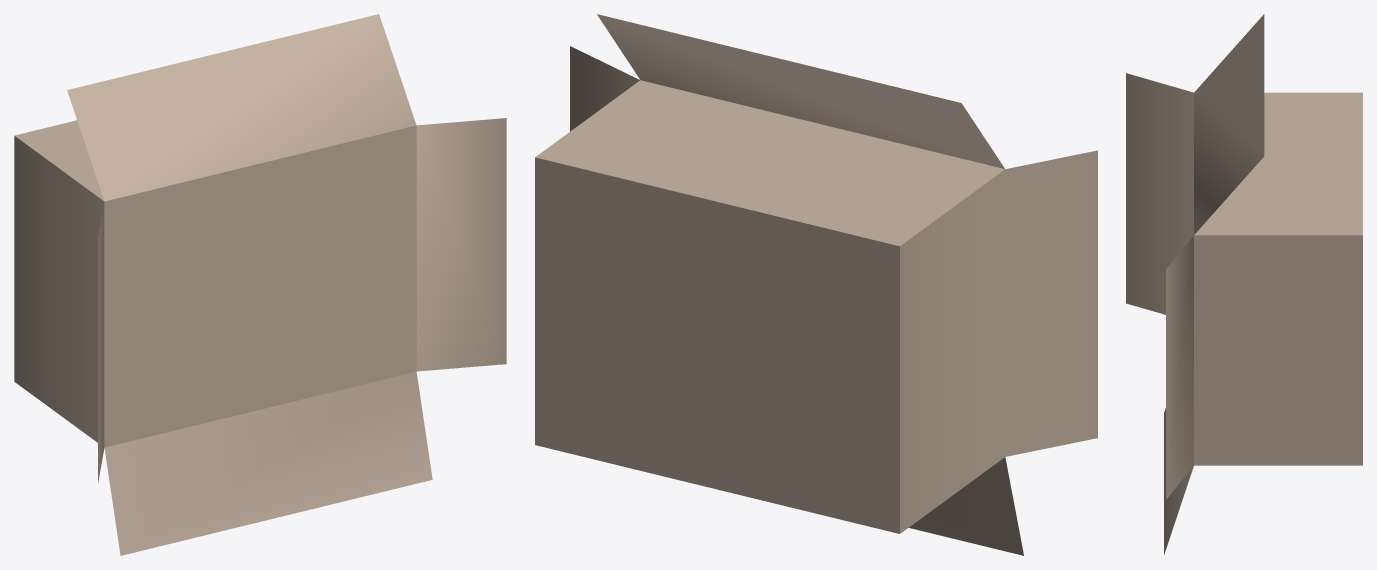
File: Cardboard_1.glb
3 renders of one model, left to right at view 1: azimuth 30°, elevation 25°; view 2: azimuth 150°, elevation 25°; view 3: azimuth 270°, elevation 25°, orthographic. The views are drawn at different scales.
Parts seen in each view (by area): view 1: Cardboard_1; view 2: Cardboard_1; view 3: Cardboard_1.
Part boxes in pixels (x1,y1,x2,y2): Cardboard_1: (14, 14, 506, 555); Cardboard_1: (535, 14, 1097, 555); Cardboard_1: (1126, 14, 1362, 554).
Bounding box in the file's own units: 1.57 × 1.49 × 0.7988.
